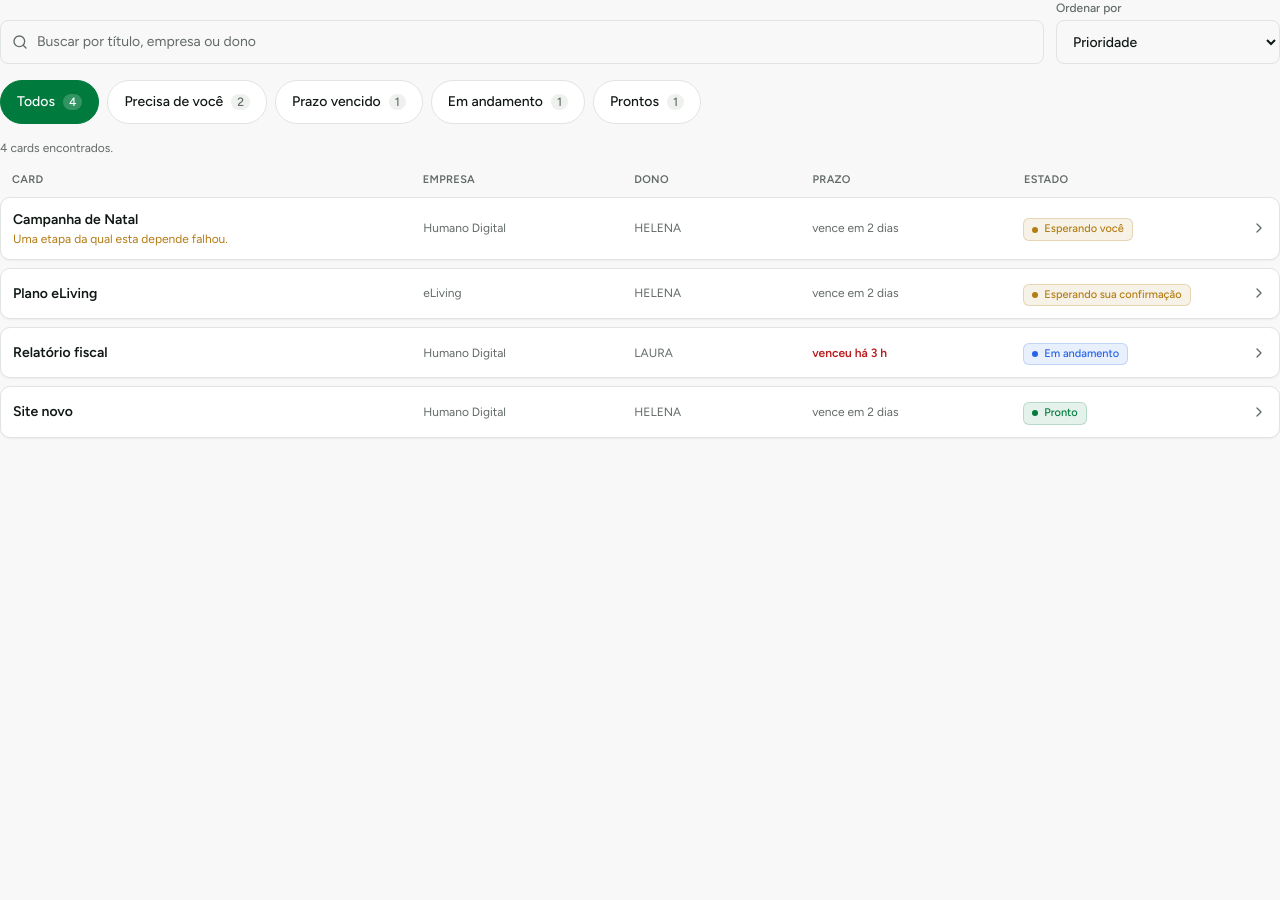
Test: erro nas etapas aparece dentro do painel, sem virar "sem etapas"
Click the button "Campanha de Natal" at [640, 228], box [0,196,1279,260]
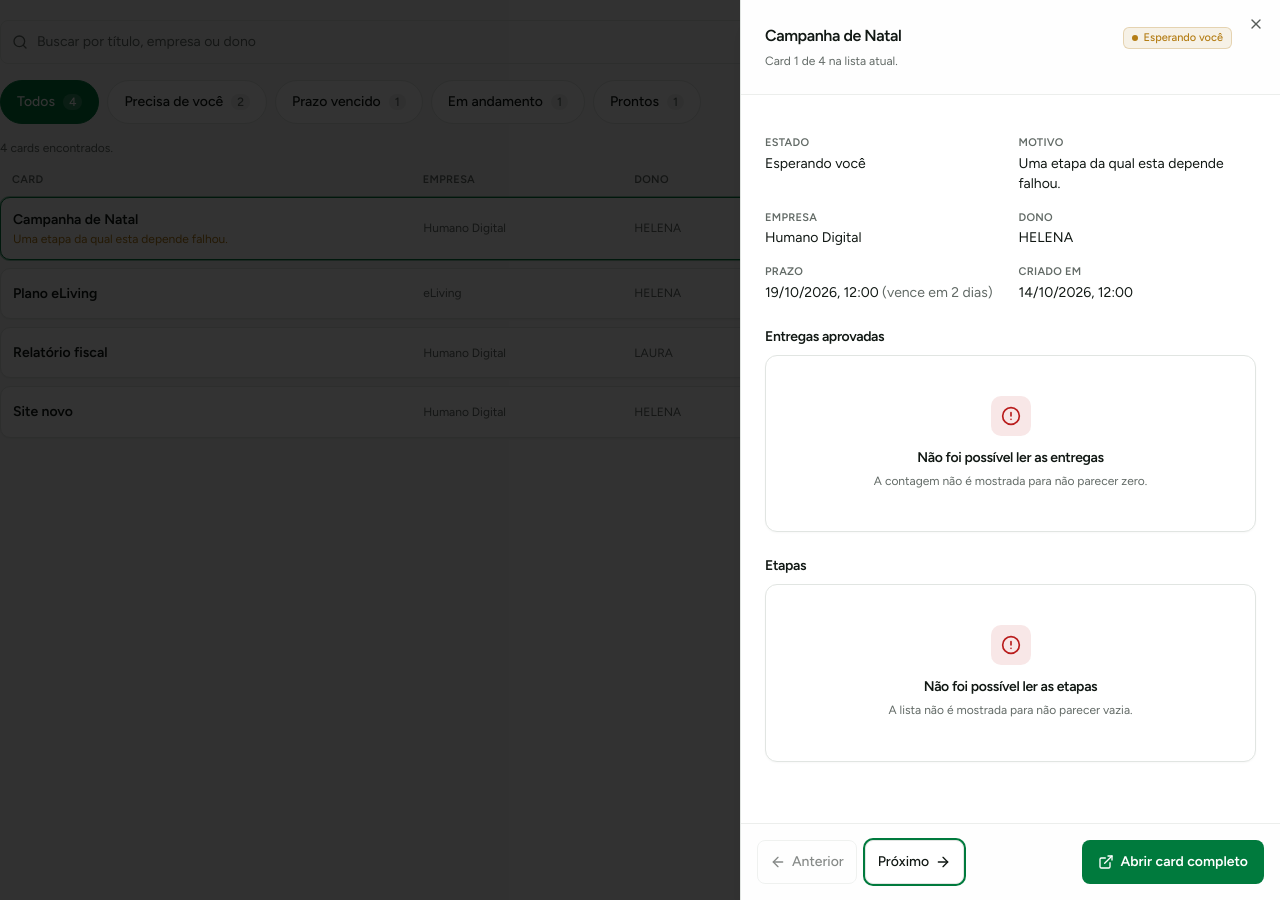
Check: the heading "Não foi possível ler as etapas" is shown, box [924,677,1097,697]
Check: the heading "Não foi possível ler as entregas" is shown, box [917,448,1104,468]
